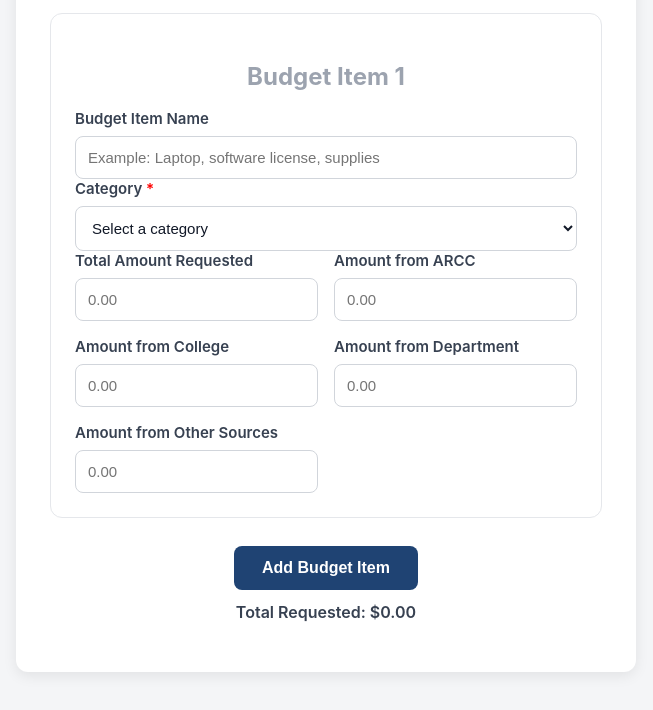
Test case: BudgetWorksheet › adds and removes budget items
(page scrolled)
Click the button "Add Budget Item". click: (326,568)
box: [234, 546, 418, 590]
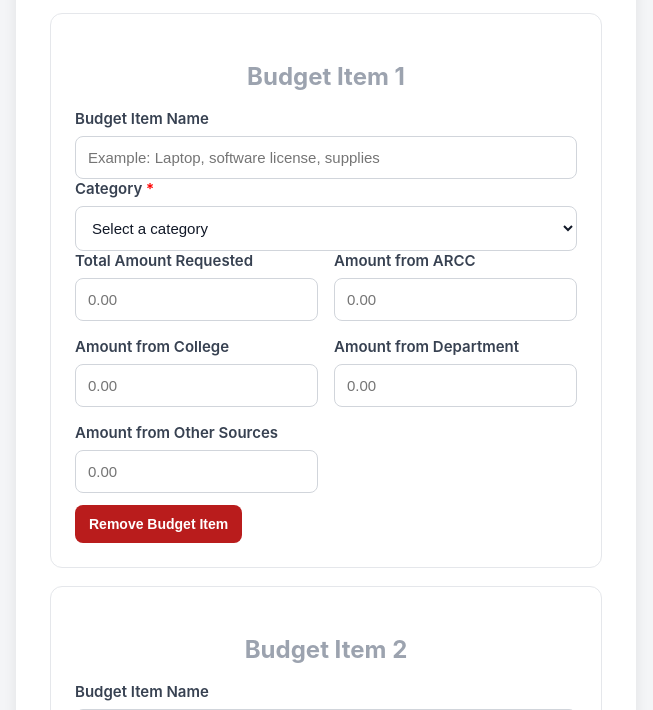
Expected: the heading "Budget Item 2" is shown, [245, 635, 407, 664]
Click the button "Remove Budget Item". click: (159,524)
box: [75, 505, 242, 543]
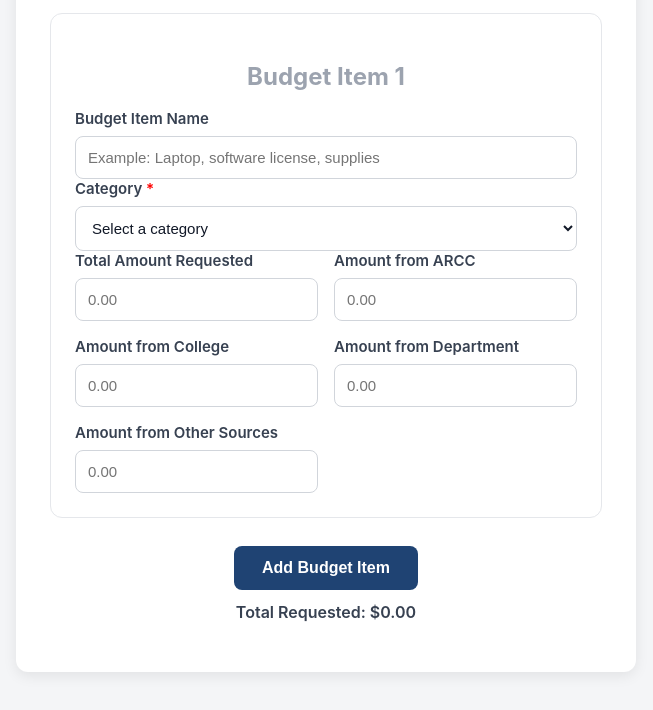
Expected: the heading "Budget Item 2" is gone
